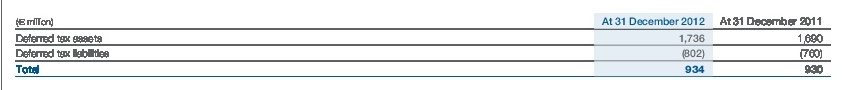table: (0, 0, 842, 90)
